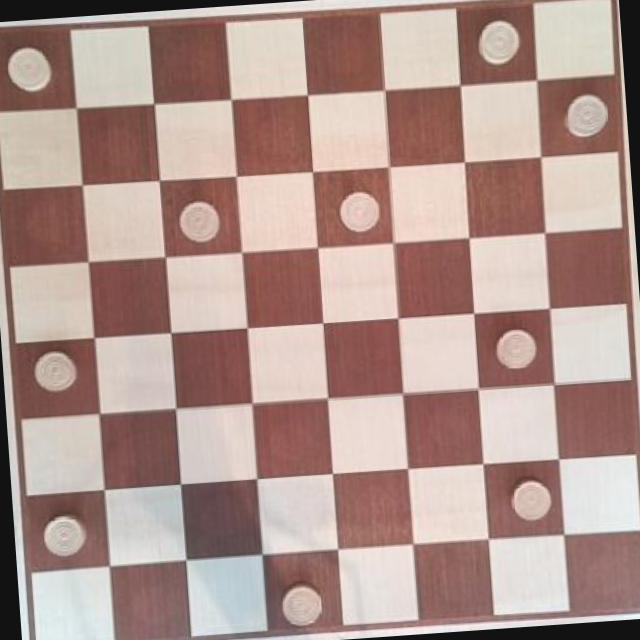BOARD: (0, 0, 640, 640)
white: (467, 10, 527, 70), (483, 322, 544, 378), (0, 40, 56, 100), (269, 575, 329, 631), (25, 344, 86, 398), (552, 89, 612, 143), (328, 186, 384, 237), (502, 472, 555, 525), (38, 508, 90, 562), (172, 195, 225, 245)
